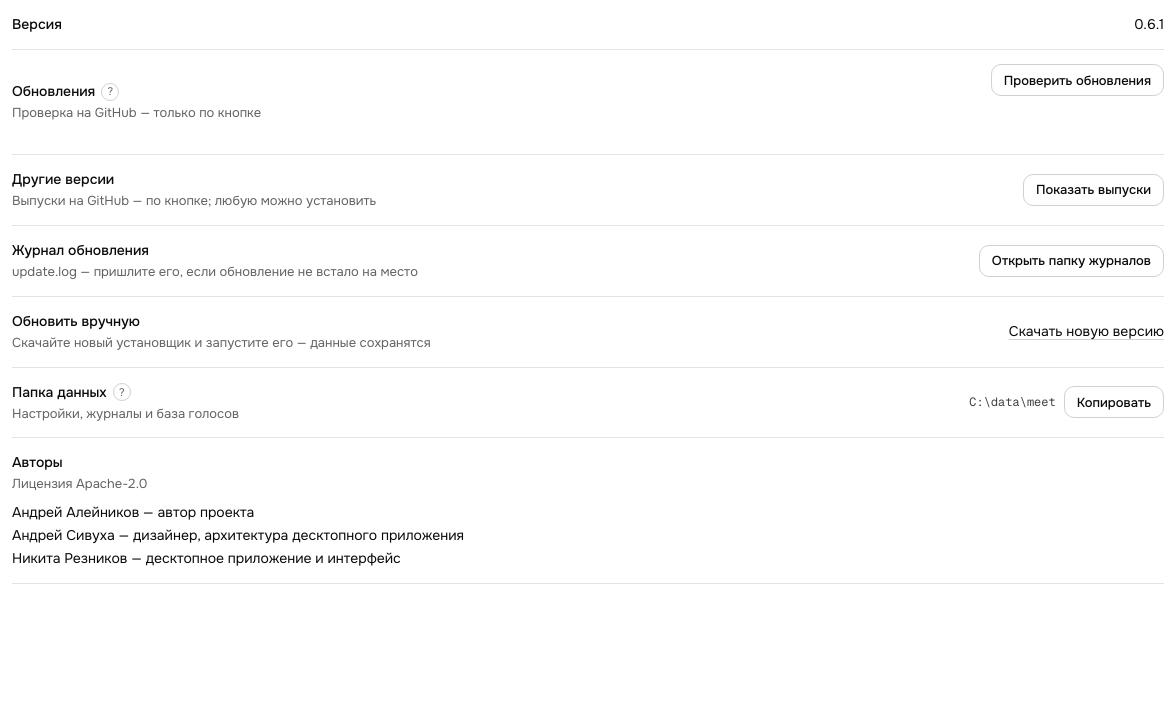
Test: нет связи — текст ошибки оболочки
The image size is (1176, 720).
Expected: the text "C:\\data\\meet" is shown, [969,394,1056,410]
Step 1. Click the button "Проверить обновления" → (1077, 80), box [991,64,1164,96]
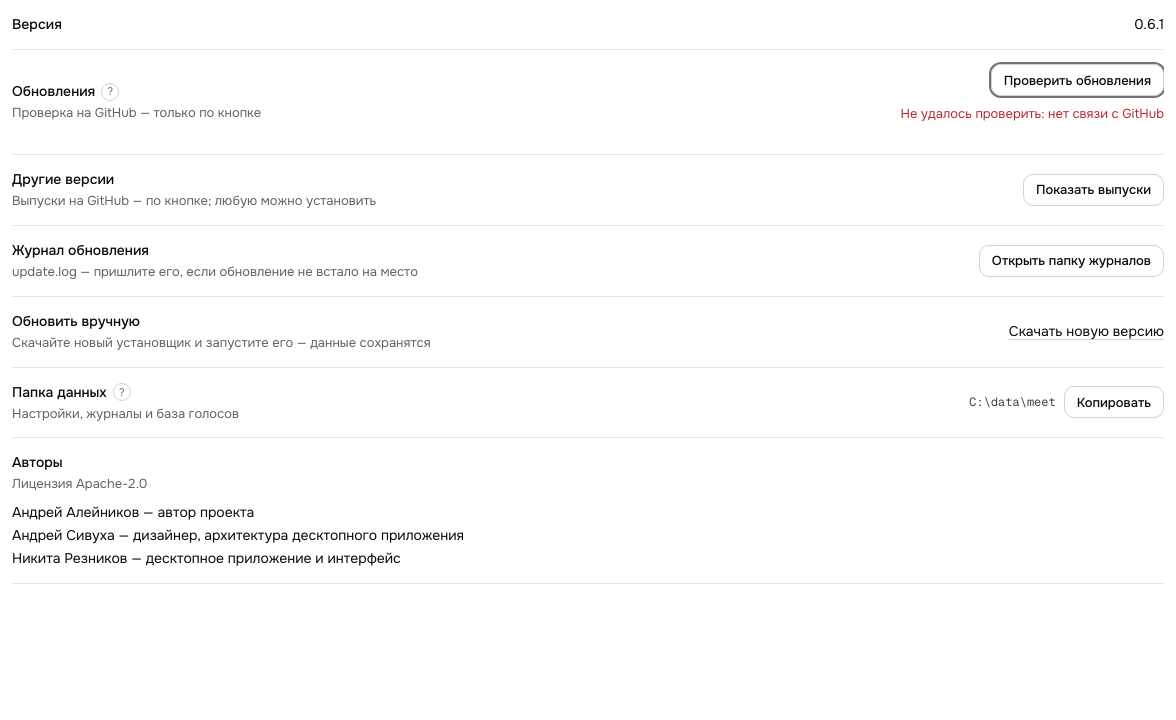
Result: the text "Не удалось проверить: нет связи с GitHub" is shown at [900,104,1164,124]
